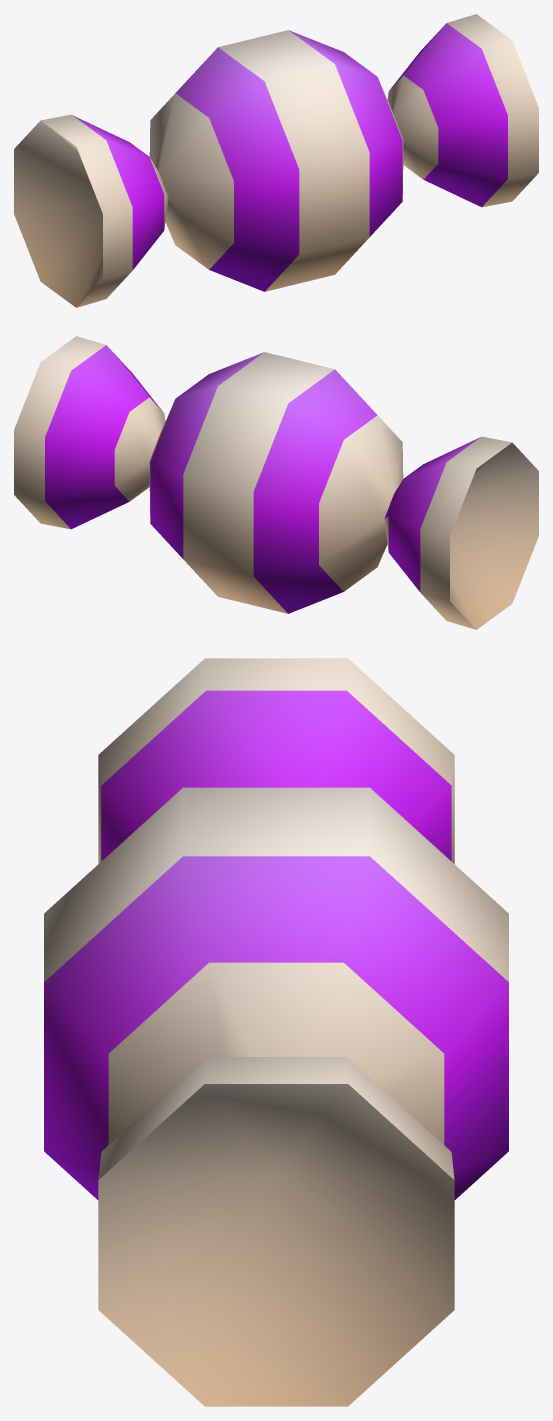
Rendered from candy_purple_A.gltf.
The picture shows the model from 3 angles, top to bottom: view 1: azimuth 30°, elevation 25°; view 2: azimuth 150°, elevation 25°; view 3: azimuth 270°, elevation 25°; orthographic projection. The views are drawn at different scales.
Visible parts, largest first — view 1: candy_purple_A; view 2: candy_purple_A; view 3: candy_purple_A.
Boxes of the visible parts, bbox=[...] form: candy_purple_A: bbox=[14, 14, 538, 307]; candy_purple_A: bbox=[14, 336, 538, 629]; candy_purple_A: bbox=[44, 658, 508, 1406].
Bounding box in the file's own units: 0.65 × 0.3 × 0.3.
Materials: 1 (1 with a texture image).
